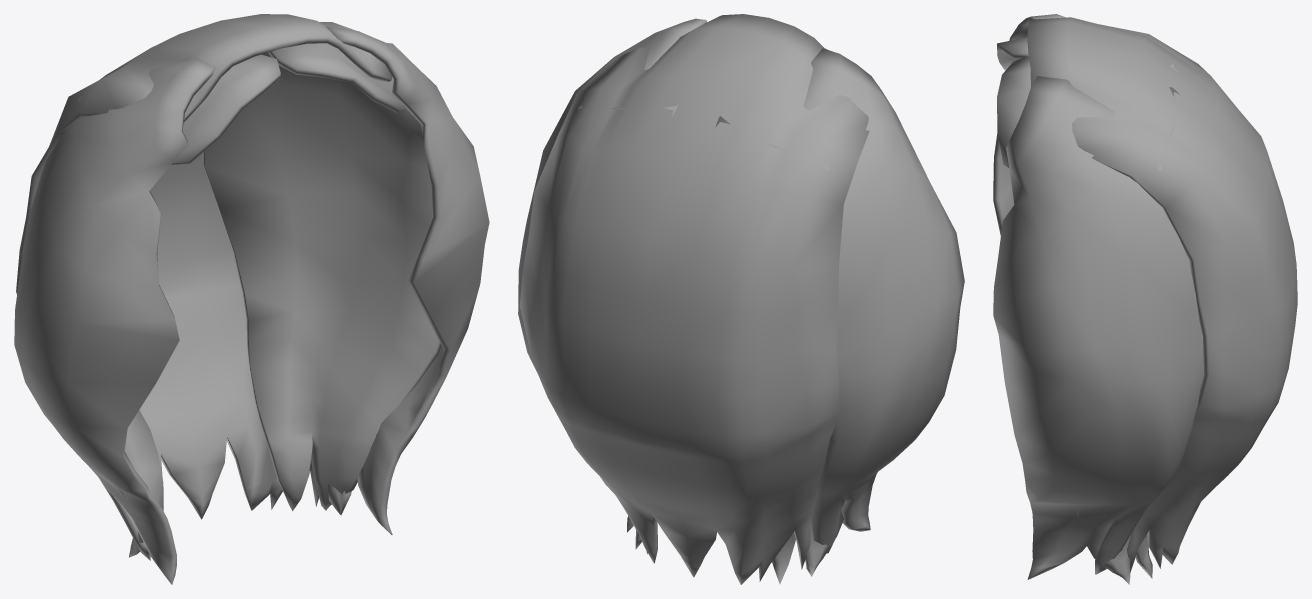
Rendered from HairBack22.fbx.
3 renders of one model, left to right at view 1: azimuth 30°, elevation 25°; view 2: azimuth 150°, elevation 25°; view 3: azimuth 270°, elevation 25°, orthographic. The views are drawn at different scales.
Visible parts, largest first — view 1: BackHair2_mesh; view 2: BackHair2_mesh; view 3: BackHair2_mesh.
Boxes of the visible parts, x1,y1,x2,y2 form: BackHair2_mesh: (14,14,489,584); BackHair2_mesh: (518,14,964,584); BackHair2_mesh: (993,14,1297,584).
Bounding box in the file's own units: 25.57 × 29.5 × 16.01.
3 materials, 3 textured.
